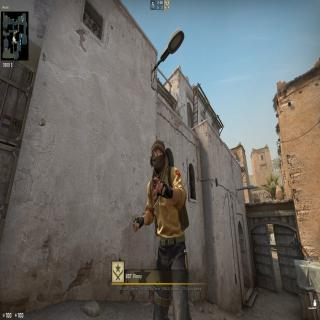T-Head: (148, 137, 168, 171)
